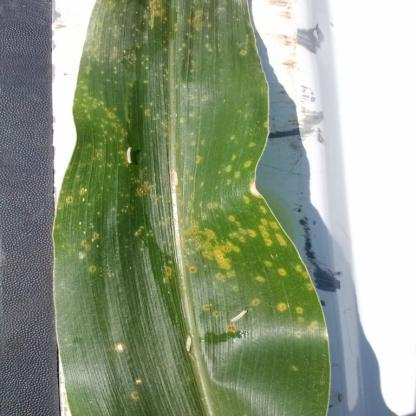Corn rust leaf: (55, 0, 331, 416)
